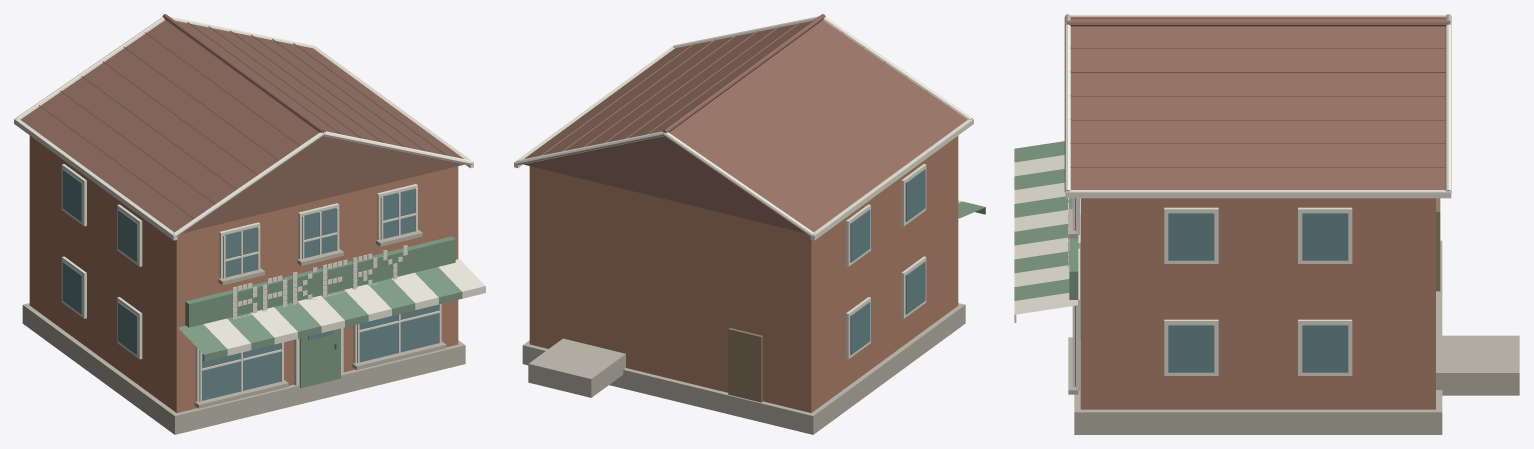
3 renders of one model, left to right at view 1: azimuth 30°, elevation 25°; view 2: azimuth 150°, elevation 25°; view 3: azimuth 270°, elevation 25°, orthographic. The views are drawn at different scales.
Size of the model in its own units: 10.03 by 8.67 by 12.09.
